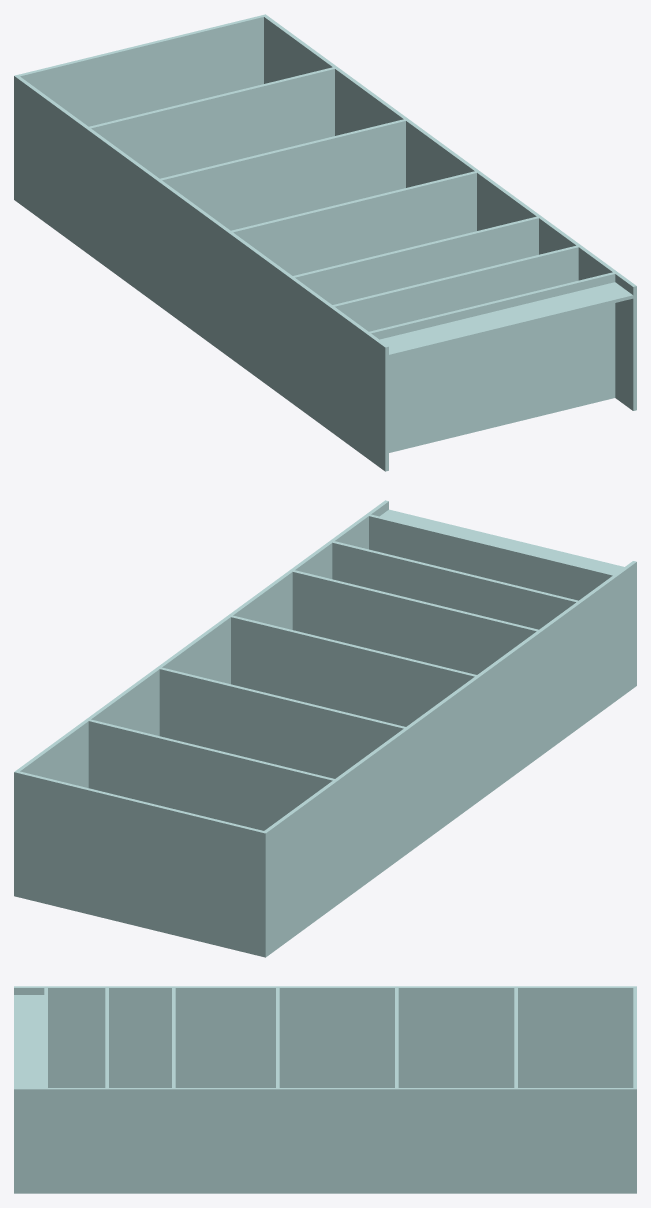
The model's file is Shelf_2_FR.dae.
The picture shows the model from 3 angles, top to bottom: view 1: azimuth 30°, elevation 25°; view 2: azimuth 150°, elevation 25°; view 3: azimuth 270°, elevation 25°; orthographic projection. The views are drawn at different scales.
Parts seen in each view (by area): view 1: node0; view 2: node0; view 3: node0.
Boxes of the visible parts, box(x1,y1,x2,y2) form: node0: box(14, 14, 636, 471); node0: box(14, 500, 636, 957); node0: box(14, 986, 636, 1193).
Size of the model in its own units: 0.798 by 2.04 by 0.376.
